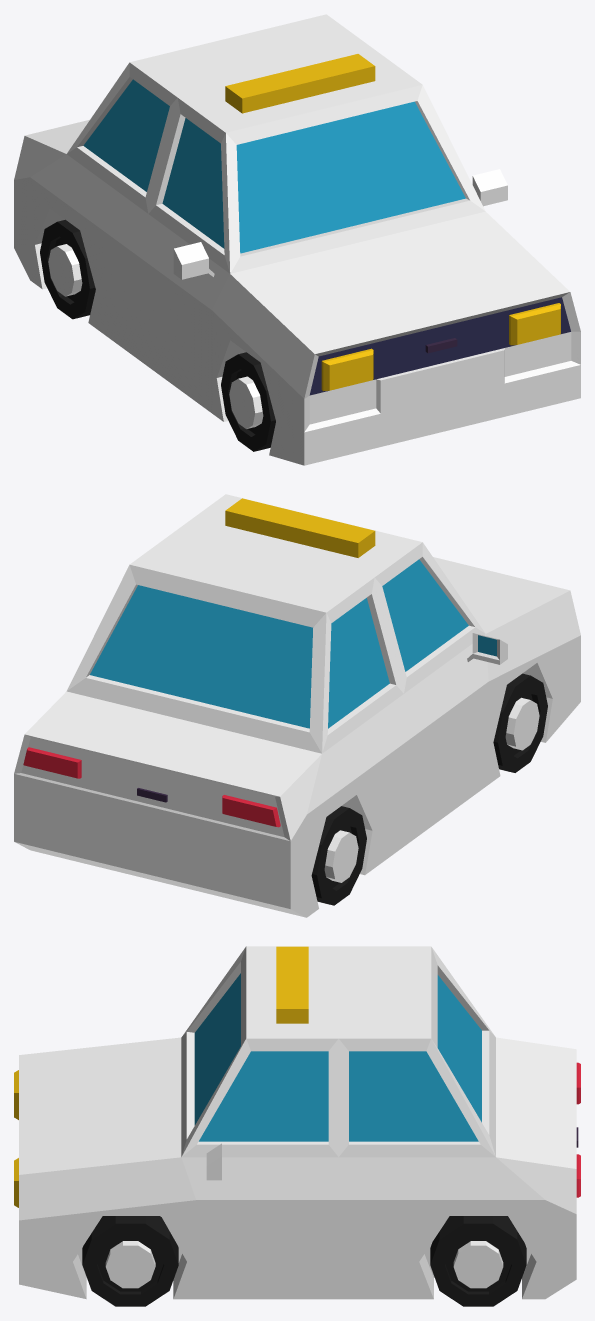
File: taxi.glb
3 views of the same model, one above another, from view 1: azimuth 30°, elevation 25°; view 2: azimuth 150°, elevation 25°; view 3: azimuth 270°, elevation 25° (orthographic). The views are drawn at different scales.
Parts seen in each view (by area): view 1: taxi; view 2: taxi; view 3: taxi.
Part boxes in pixels (box(x1,y1,x2,y2)): taxi: box(14, 14, 580, 465); taxi: box(14, 494, 580, 917); taxi: box(14, 946, 580, 1306).
Bounding box in the file's own units: 4.54 × 3.66 × 7.12.
Materials: 1 (1 with a texture image).
